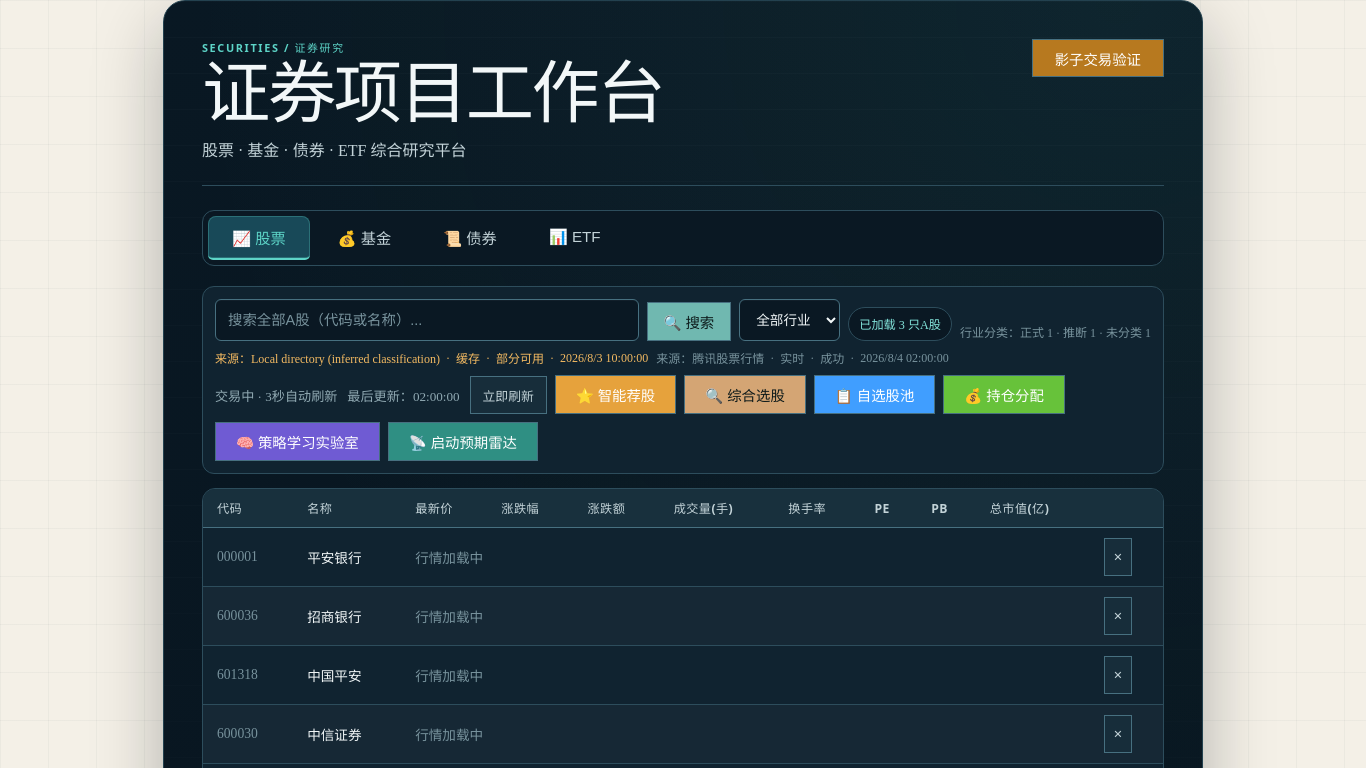
Test: SecuritiesWorkbenchPage › shows fund data as not requested when the fund list is empty
This screenshot has width=1366, height=768.
Click the button "💰 基金": point(364, 238) [314,216,415,260]
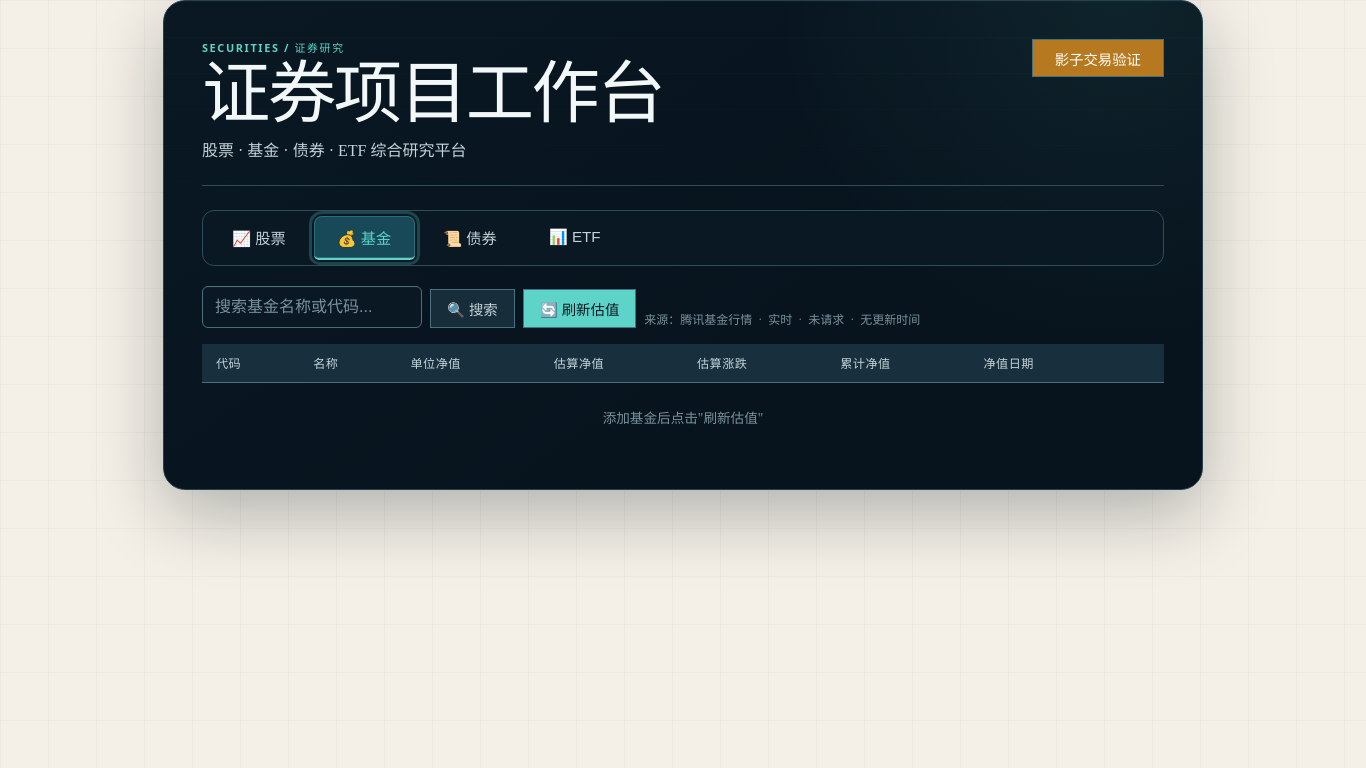
Expected: the text "未请求" is shown, [808,310,844,328]
